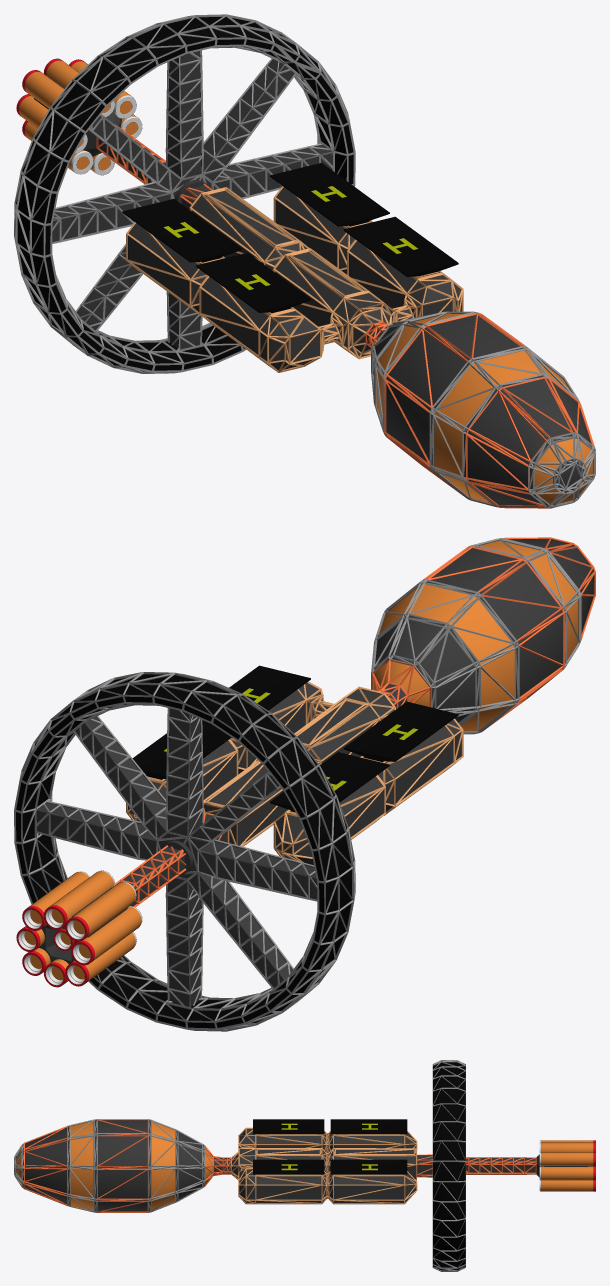
Rendered from OutPost.fbx.
3 renders of one model, top to bottom at view 1: azimuth 30°, elevation 25°; view 2: azimuth 150°, elevation 25°; view 3: azimuth 270°, elevation 25°, orthographic. The views are drawn at different scales.
Parts seen in each view (by area): view 1: MainBody Cage, Fuel Ball, Circle, Connector, Circle Cage, Landing Pads, Connector Cage, Fuel Body MID, Fuel Body R, Fuel Body L, Rocket.001, Rocket Body; view 2: Fuel Ball, Circle, Connector, MainBody Cage, Circle Cage, Connector Cage, Rocket.001, Landing Pads, Fuel Body R, Fuel Body MID, Fuel Body L, Rocket Body; view 3: MainBody Cage, Fuel Ball, Circle, Landing Pads, Fuel Body L, Rocket.001, Circle Cage, Fuel Body MID, Fuel Body R, Rocket Body.
Boxes of the visible parts, x1,y1,x2,y2 form: MainBody Cage: [96, 124, 595, 508]; Fuel Ball: [373, 313, 593, 505]; Circle: [16, 17, 353, 371]; Connector: [52, 51, 332, 349]; Circle Cage: [14, 14, 355, 373]; Landing Pads: [122, 162, 458, 313]; Connector Cage: [52, 50, 332, 349]; Fuel Body MID: [181, 185, 411, 356]; Fuel Body R: [128, 223, 319, 370]; Fuel Body L: [275, 187, 461, 317]; Rocket.001: [16, 58, 142, 175]; Rocket Body: [34, 78, 166, 183]; Fuel Ball: [374, 539, 593, 731]; Circle: [16, 674, 353, 1028]; Connector: [36, 708, 317, 1006]; MainBody Cage: [115, 537, 595, 907]; Circle Cage: [14, 672, 355, 1031]; Connector Cage: [37, 708, 317, 1007]; Rocket.001: [16, 870, 142, 987]; Landing Pads: [132, 665, 458, 812]; Fuel Body R: [275, 720, 461, 864]; Fuel Body MID: [204, 684, 406, 845]; Fuel Body L: [128, 683, 321, 821]; Rocket Body: [38, 847, 184, 964]; MainBody Cage: [14, 1119, 536, 1212]; Fuel Ball: [16, 1120, 212, 1211]; Circle: [433, 1062, 465, 1270]; Landing Pads: [253, 1119, 407, 1174]; Fuel Body L: [239, 1169, 415, 1202]; Rocket.001: [539, 1140, 595, 1191]; Circle Cage: [432, 1060, 465, 1271]; Fuel Body MID: [214, 1149, 432, 1179]; Fuel Body R: [239, 1129, 415, 1152]; Rocket Body: [466, 1154, 588, 1177].
Size of the model in its own units: 5633 by 15517 by 5633.
